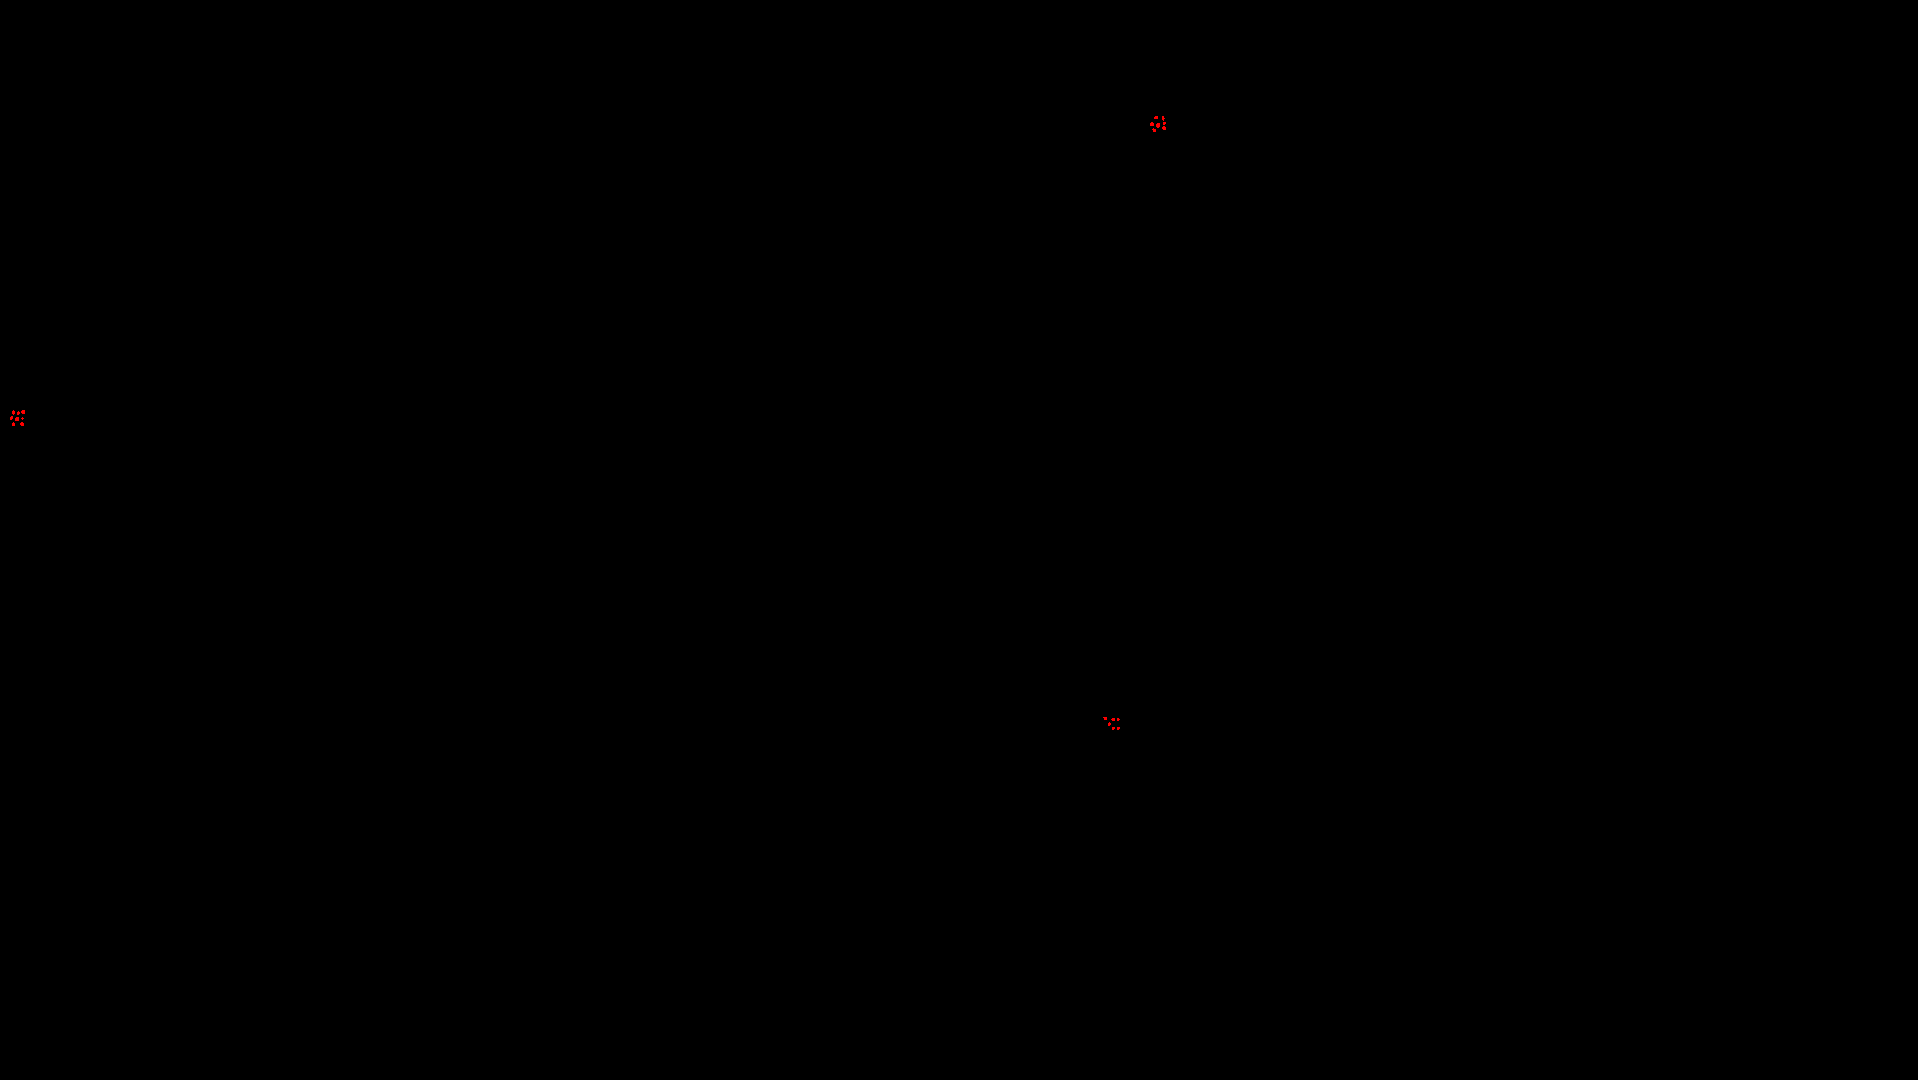Target: (1157, 122, 1161, 128), (1150, 122, 1154, 126), (1162, 126, 1166, 130), (1153, 128, 1157, 132), (21, 410, 25, 414), (14, 418, 18, 421), (20, 421, 24, 425), (1103, 716, 1107, 720), (1162, 116, 1164, 121), (12, 410, 14, 415), (1154, 116, 1158, 119), (17, 411, 20, 415), (11, 416, 13, 420), (12, 421, 14, 425), (1110, 718, 1114, 720), (1108, 722, 1110, 726), (1163, 122, 1166, 125), (21, 418, 24, 420), (1117, 718, 1120, 720), (1112, 727, 1114, 730), (1117, 727, 1120, 730)
